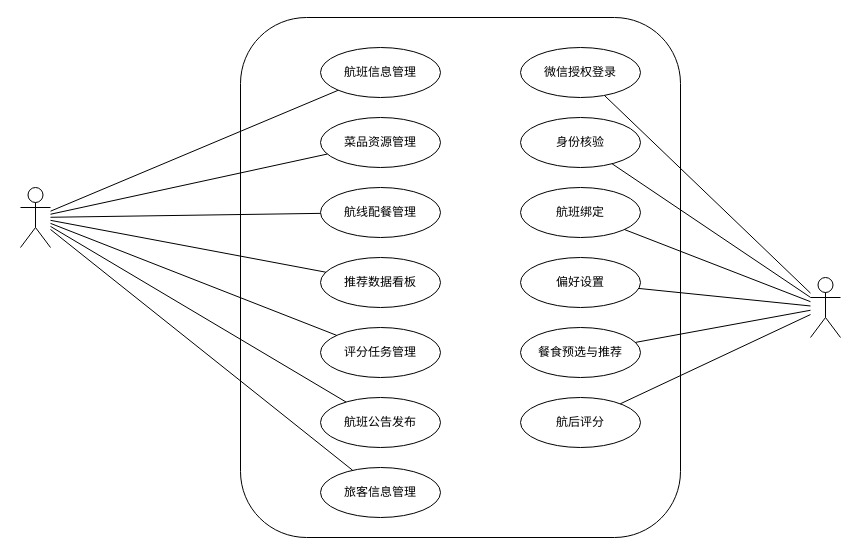
The diagram is 858 pixels wide and 555 high, and some of its shapes have lost their labels. Each missing label, with the box of its shape:
旅客: (810, 276, 840, 338)
管理员: (20, 186, 50, 248)
航空旅客智能美食推荐系统: (240, 16, 680, 538)
